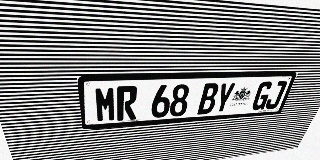6: (151, 84, 173, 118)
8: (169, 84, 191, 117)
B: (197, 83, 220, 115)
G: (250, 81, 274, 110)
J: (264, 81, 288, 109)
M: (94, 86, 116, 122)
R: (117, 86, 138, 121)
Y: (213, 82, 236, 113)
